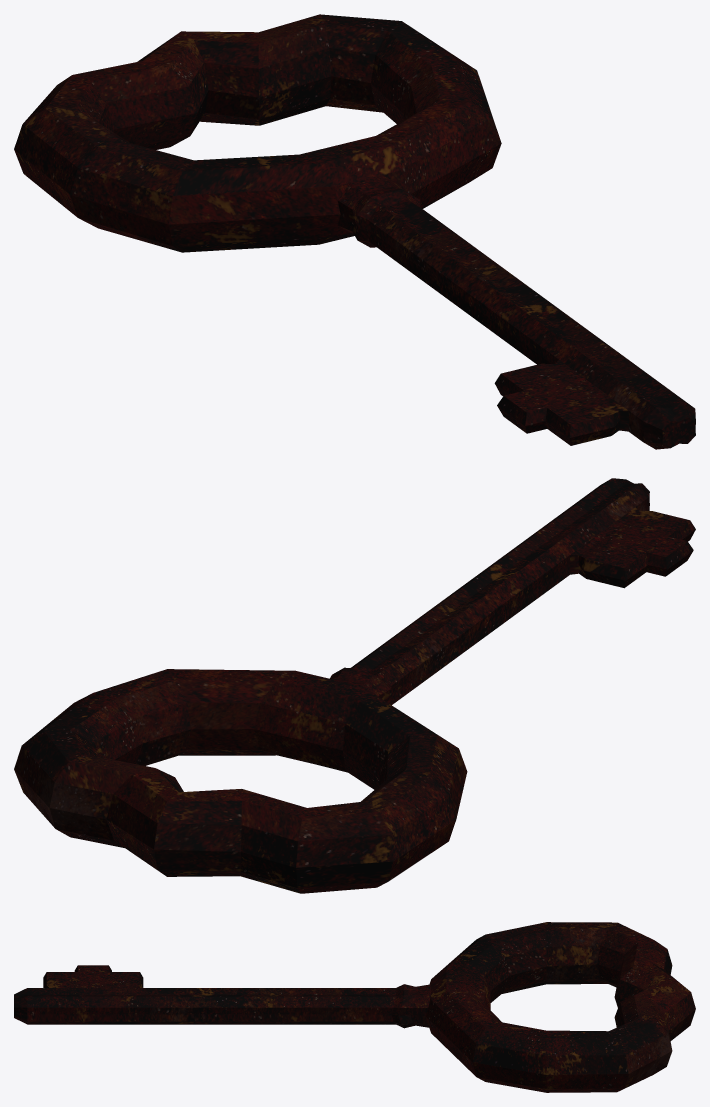
The model's file is key5.fbx.
3 views of the same model, one above another, from view 1: azimuth 30°, elevation 25°; view 2: azimuth 150°, elevation 25°; view 3: azimuth 270°, elevation 25° (orthographic). The views are drawn at different scales.
Parts seen in each view (by area): view 1: Key; view 2: Key; view 3: Key.
Boxes of the visible parts, x1,y1,x2,y2 form: Key: [14, 14, 695, 449]; Key: [14, 478, 695, 893]; Key: [14, 922, 695, 1092].
Size of the model in its own units: 163 by 31.78 by 348.
Materials: 1 (1 with a texture image).
